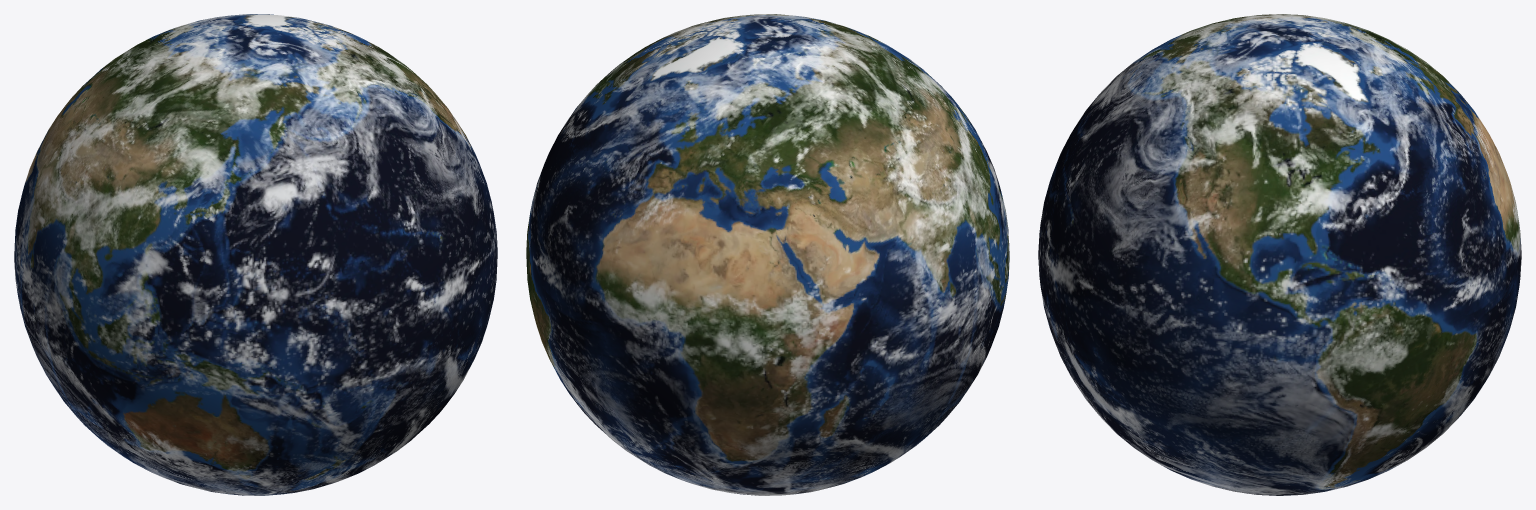
The model's file is earth.glb.
3 views of the same model, side by side, from view 1: azimuth 30°, elevation 25°; view 2: azimuth 150°, elevation 25°; view 3: azimuth 270°, elevation 25° (orthographic).
Parts seen in each view (by area): view 1: Cube.001; view 2: Cube.001; view 3: Cube.001.
Boxes of the visible parts, x1,y1,x2,y2 form: Cube.001: (14, 14, 497, 495); Cube.001: (526, 14, 1009, 495); Cube.001: (1038, 14, 1521, 495).
Size of the model in its own units: 1000 by 997 by 1000.
1 material, 1 textured.
